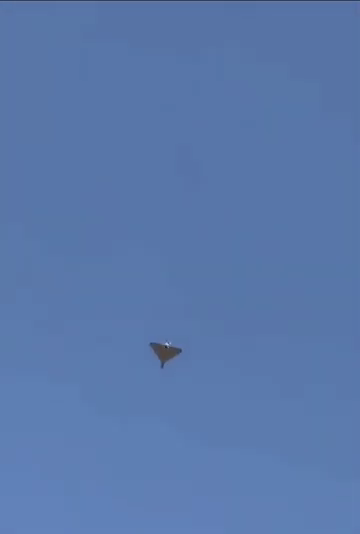shahed: (148, 338, 182, 369)
